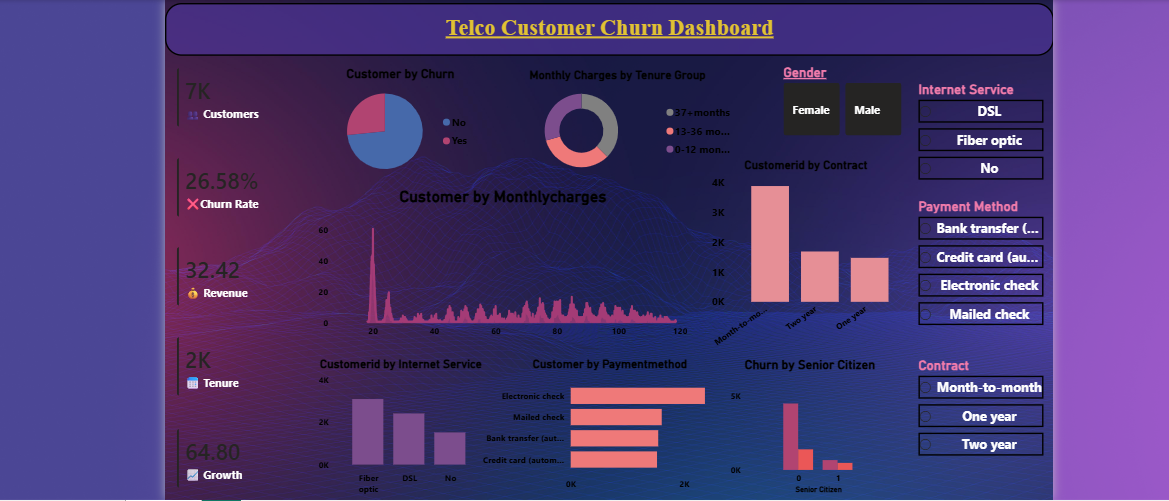

The dashboard page shown, as its layout file describes it:
{"tool":"powerbi","page":{"name":"Page 1","canvas":[1280,720],"ordinal":0},"visuals":[{"type":"pieChart","title":"Customer by Churn","fields":{"Category":["Telco_Customer.churn"],"Y":["CountNonNull(Telco_Customer.customerid)"]},"box":[229,95,220.3,167],"z":0},{"type":"cardVisual","fields":{"Data":["Telco_Customer.Total Churn Customer"]},"box":[0,468,203,119.5],"z":1000},{"type":"cardVisual","fields":{"Data":["Telco_Customer.Churn Rate"]},"box":[0,210.2,203,119.5],"z":2000},{"type":"textbox","box":[0,4.4,1280.5,76.1],"z":3000},{"type":"advancedSlicerVisual","title":"Gender","fields":{"Values":["Telco_Customer.gender"]},"box":[885.6,92.2,181.4,108],"z":4000},{"type":"clusteredColumnChart","title":"Customerid by Contract","fields":{"Category":["Telco_Customer.contract"],"Y":["CountNonNull(Telco_Customer.customerid)"]},"box":[767.5,227.5,311,285.1],"z":5000},{"type":"barChart","title":"Customer by Paymentmethod","fields":{"Category":["Telco_Customer.paymentmethod"],"Y":["CountNonNull(Telco_Customer.customerid)"]},"box":[439.2,514.1,403.2,201.6],"z":6000},{"type":"columnChart","title":"Customerid by Internet Service","fields":{"Category":["Telco_Customer.internetservice"],"Y":["CountNonNull(Telco_Customer.customerid)"]},"box":[216,514.1,247.7,205.9],"z":7000},{"type":"lineChart","title":"Customer by Monthlycharges","fields":{"Category":["Telco_Customer.monthlycharges"],"Y":["Count(Telco_Customer.customerid)"]},"box":[216,269.3,541.4,226.1],"z":8000},{"type":"donutChart","title":"Monthly Charges by Tenure Group","fields":{"Category":["Telco_Customer.Tenure Group"],"Y":["Telco_Customer.Avg Monthly Charges"]},"box":[473.8,97.9,355.7,161.3],"z":9000},{"type":"listSlicer","title":"Internet Service","fields":{"Values":["Telco_Customer.internetservice"]},"box":[1080,116.6,190.1,152.6],"z":10000},{"type":"cardVisual","fields":{"Data":["Telco_Customer.Avg Monthly Charges"]},"box":[0,600.5,203,119.5],"z":11000},{"type":"cardVisual","fields":{"Data":["Telco_Customer.Average Tenure"]},"box":[0,338.4,203,119.5],"z":12000},{"type":"cardVisual","fields":{"Data":["Telco_Customer.Total Customer"]},"box":[0,80.6,203,119.5],"z":13000},{"type":"listSlicer","title":"Payment Method","fields":{"Values":["Telco_Customer.paymentmethod"]},"box":[1080,285.1,190.1,194.4],"z":14000},{"type":"listSlicer","title":"Contract","fields":{"Values":["Telco_Customer.contract"]},"box":[1080,514.1,190.1,194.4],"z":15000},{"type":"clusteredColumnChart","title":"Churn by Senior Citizen","fields":{"Category":["Telco_Customer.seniorcitizen"],"Y":["CountNonNull(Telco_Customer.customerid)"],"Series":["Telco_Customer.churn"]},"box":[809.3,514.1,239,201.6],"z":16000}]}

Visuals, with their boxes on the page's 1280x720 design canvas (x1, y1, x2, y2). These are canvas units, not pixel positions in the 1169x501 screenshot, which may show the page scaled, cropped or inside an application window:
"Customer by Churn" pieChart: crop(229, 95, 449, 262)
cardVisual - Telco_Customer.Total Churn Customer: crop(0, 468, 203, 588)
cardVisual - Telco_Customer.Churn Rate: crop(0, 210, 203, 330)
textbox: crop(0, 4, 1280, 80)
"Gender" advancedSlicerVisual: crop(886, 92, 1067, 200)
"Customerid by Contract" clusteredColumnChart: crop(768, 228, 1078, 513)
"Customer by Paymentmethod" barChart: crop(439, 514, 842, 716)
"Customerid by Internet Service" columnChart: crop(216, 514, 464, 720)
"Customer by Monthlycharges" lineChart: crop(216, 269, 757, 495)
"Monthly Charges by Tenure Group" donutChart: crop(474, 98, 830, 259)
"Internet Service" listSlicer: crop(1080, 117, 1270, 269)
cardVisual - Telco_Customer.Avg Monthly Charges: crop(0, 600, 203, 720)
cardVisual - Telco_Customer.Average Tenure: crop(0, 338, 203, 458)
cardVisual - Telco_Customer.Total Customer: crop(0, 81, 203, 200)
"Payment Method" listSlicer: crop(1080, 285, 1270, 480)
"Contract" listSlicer: crop(1080, 514, 1270, 708)
"Churn by Senior Citizen" clusteredColumnChart: crop(809, 514, 1048, 716)
